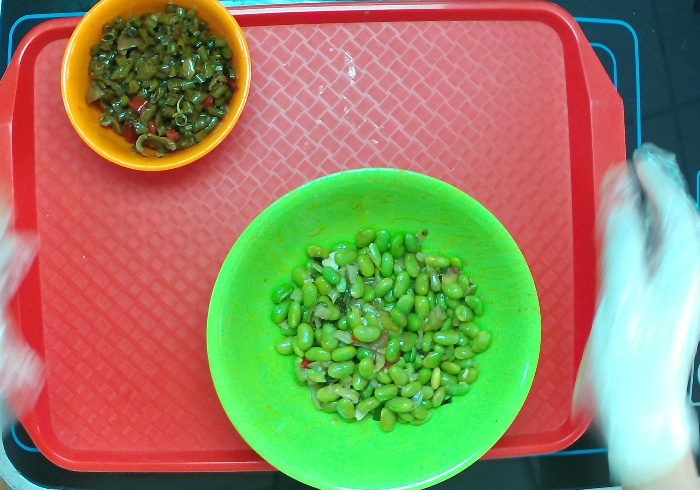YKMZ-Ju_Se_Yuan_Wan: (58, 1, 253, 173)
YKMZ-Lv_Se_Tang_Wan: (204, 164, 544, 490)
